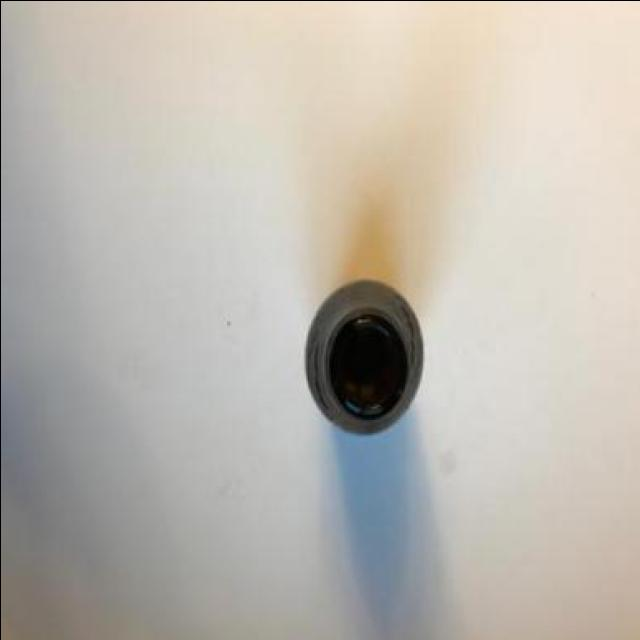kaca: (307, 280, 424, 434)
